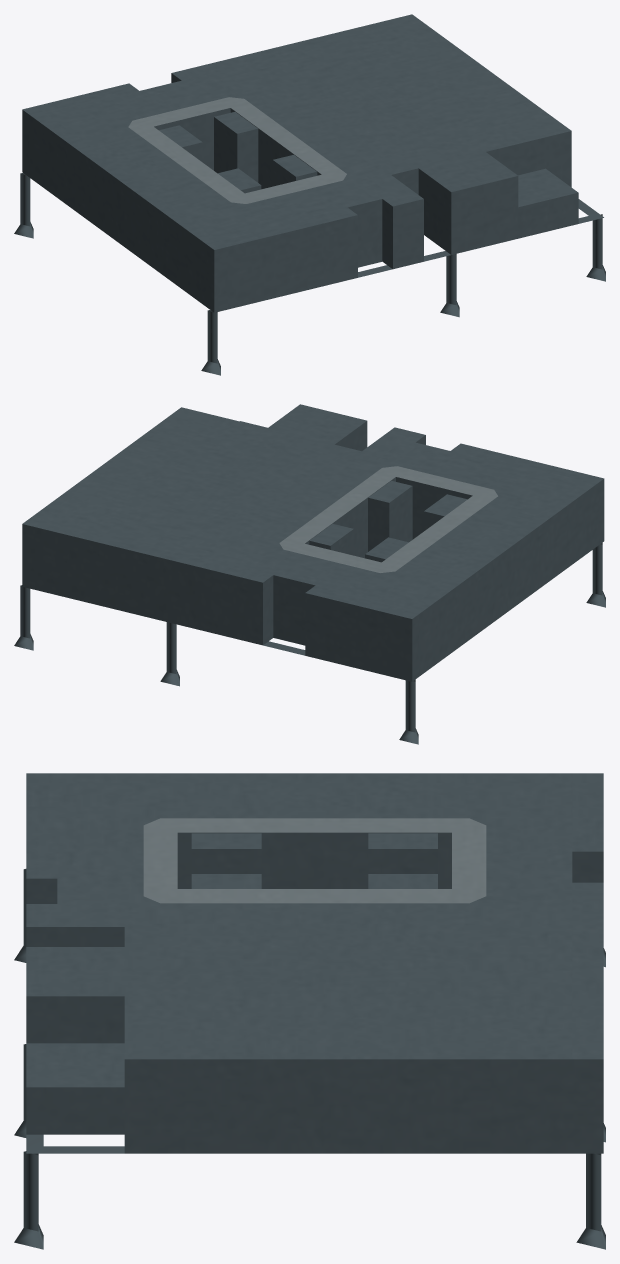
File: MLP1_LP.FBX
3 renders of one model, top to bottom at view 1: azimuth 30°, elevation 25°; view 2: azimuth 150°, elevation 25°; view 3: azimuth 270°, elevation 25°, orthographic. The views are drawn at different scales.
Visible parts, largest first — view 1: MLP-1_LP; view 2: MLP-1_LP; view 3: MLP-1_LP.
Boxes of the visible parts, x1,y1,x2,y2 form: MLP-1_LP: [14, 14, 605, 375]; MLP-1_LP: [14, 404, 605, 744]; MLP-1_LP: [14, 773, 605, 1249].
Bounding box in the file's own units: 101 × 29.41 × 85.26.
1 material, 1 textured.
